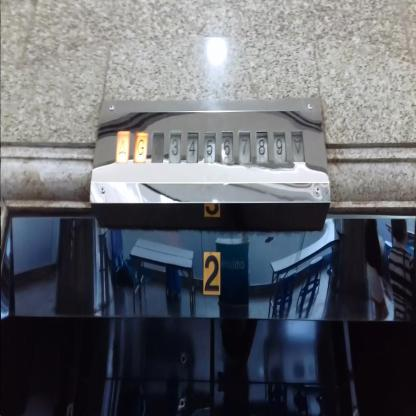2: (201, 247, 221, 297)
3: (168, 128, 181, 164)
4: (150, 128, 164, 164), (185, 128, 198, 164)
5: (202, 129, 216, 164)
6: (220, 129, 234, 165)
7: (236, 128, 252, 165)
8: (254, 127, 269, 164)
9: (271, 127, 287, 164)
G: (134, 128, 148, 164)
down: (289, 127, 306, 164)
up: (115, 127, 129, 164)
